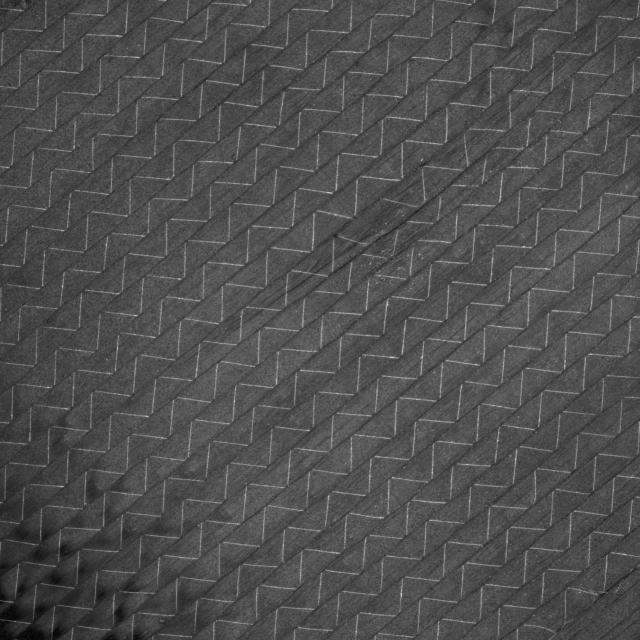carbon-fibre-defect: (233, 181, 439, 357)
